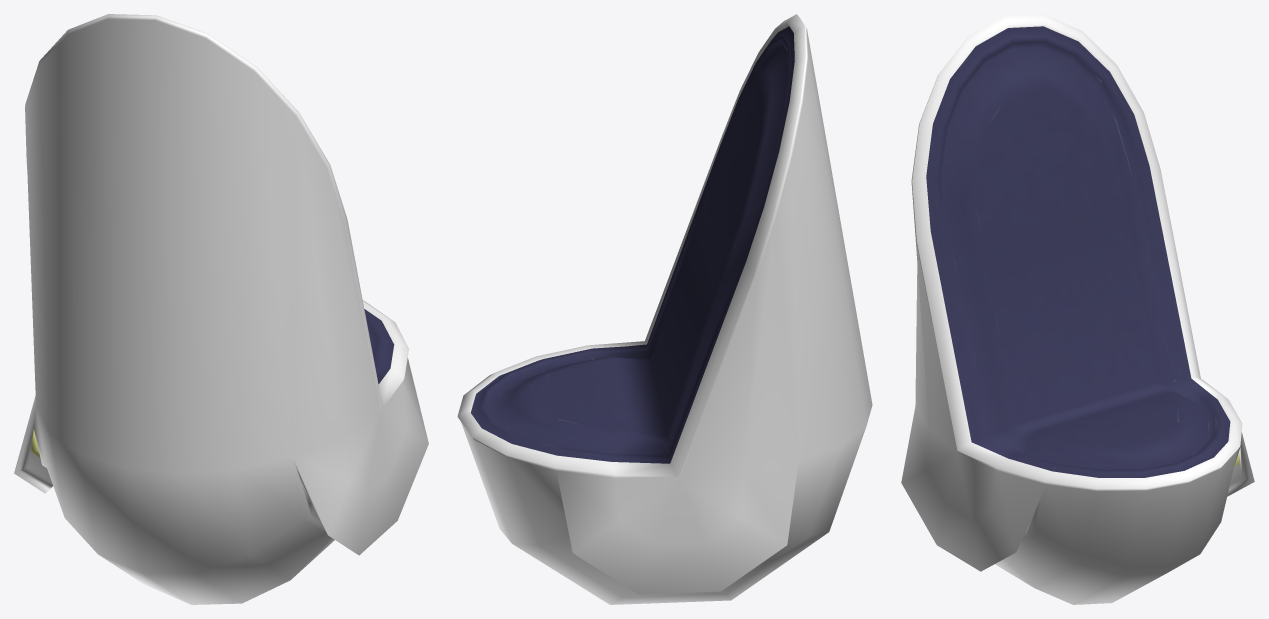
The model's file is Bridge_Chair_02_Mesh.fbx.
The picture shows the model from 3 angles, left to right: view 1: azimuth 30°, elevation 25°; view 2: azimuth 150°, elevation 25°; view 3: azimuth 270°, elevation 25°; orthographic projection. The views are drawn at different scales.
Parts seen in each view (by area): view 1: Bridge_Chair_02_Mesh; view 2: Bridge_Chair_02_Mesh; view 3: Bridge_Chair_02_Mesh.
Part boxes in pixels (x1,y1,x2,y2): Bridge_Chair_02_Mesh: (14,14,428,604); Bridge_Chair_02_Mesh: (457,14,872,604); Bridge_Chair_02_Mesh: (901,14,1254,604).
Bounding box in the file's own units: 269 × 434 × 266.
